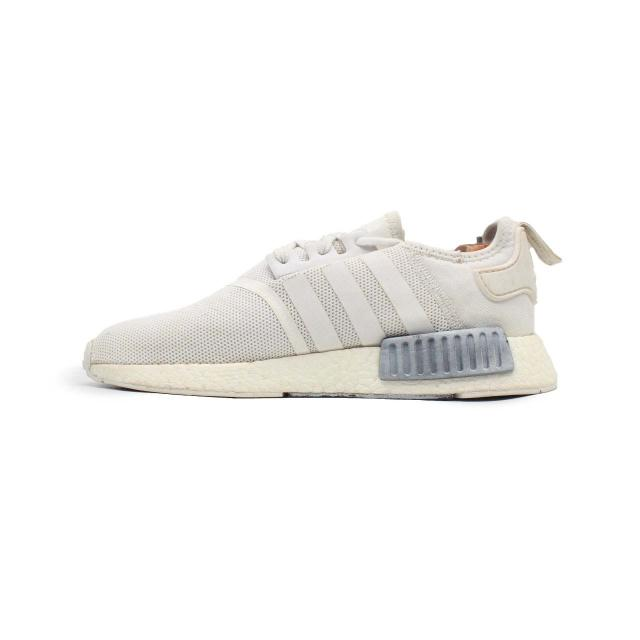heel: (469, 217, 558, 334)
midsole: (83, 326, 558, 400)
uppersole: (87, 210, 471, 364)
